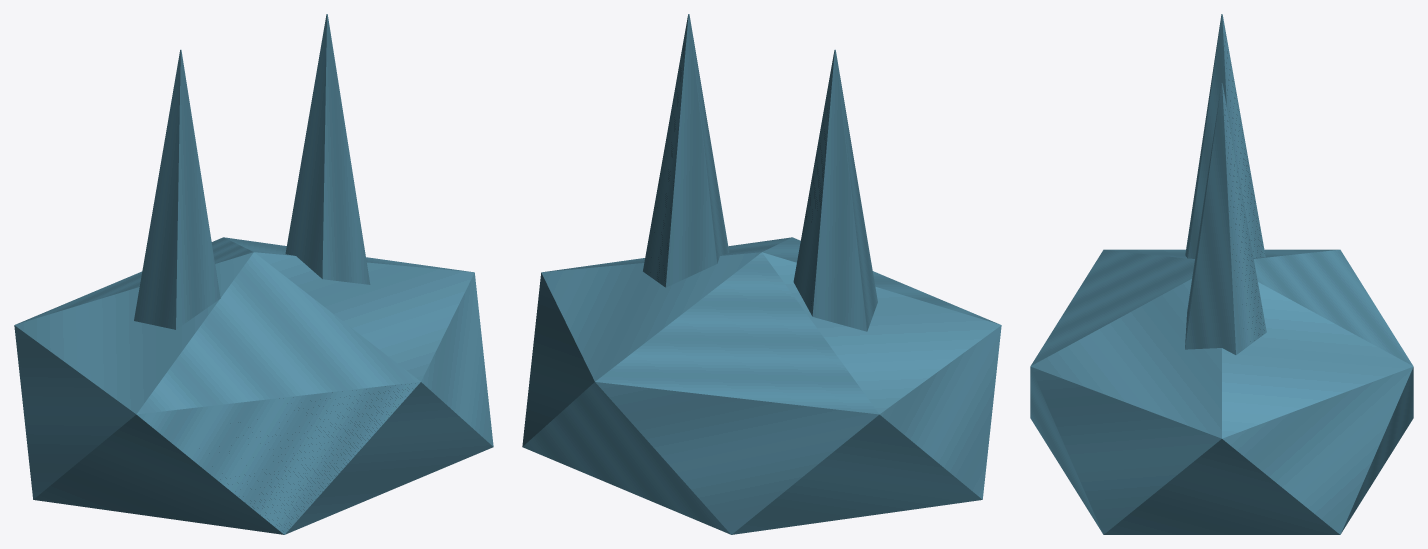
Rendered from third_crit.glb.
The picture shows the model from 3 angles, left to right: view 1: azimuth 30°, elevation 25°; view 2: azimuth 150°, elevation 25°; view 3: azimuth 270°, elevation 25°; orthographic projection. The views are drawn at different scales.
Visible parts, largest first — view 1: gear_third_crit; view 2: gear_third_crit; view 3: gear_third_crit.
Part boxes in pixels (box(x1,y1,x2,y2)): gear_third_crit: box(14, 14, 493, 534); gear_third_crit: box(522, 14, 1001, 534); gear_third_crit: box(1030, 14, 1413, 534).
Size of the model in its own units: 0.483 by 0.51 by 0.3743.
1 material, 1 textured.
